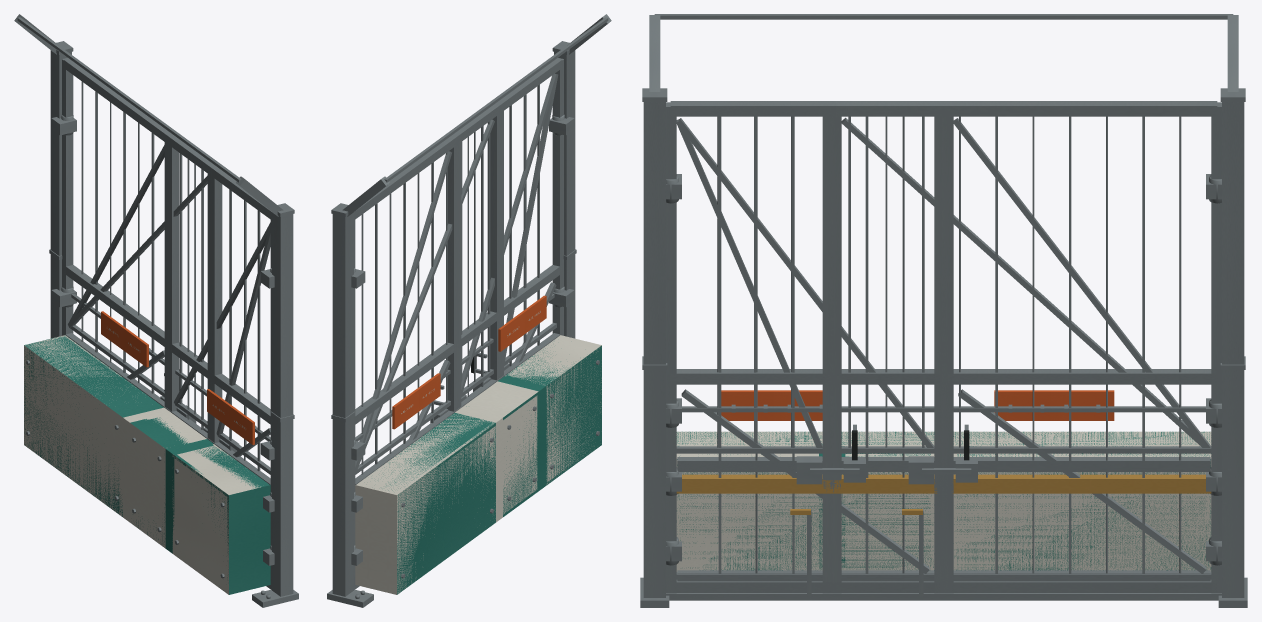
Rendered from aurel-recovery-gates.glb.
The picture shows the model from 3 angles, left to right: view 1: azimuth 30°, elevation 25°; view 2: azimuth 150°, elevation 25°; view 3: azimuth 270°, elevation 25°; orthographic projection. The views are drawn at different scales.
Visible parts, largest first — view 1: A05_MAINTENANCE_LOD0_LEFT_LEAF, A05_MAINTENANCE_LOD1_LEFT_LEAF, A05_MAINTENANCE_LOD0_RIGHT_LEAF, A05_RECOVERY_LOD0_RIGHT_LEAF, A05_MAINTENANCE_LOD0_FRAME, A05_RECOVERY_LOD1_RIGHT_LEAF, A05_MAINTENANCE_LOD1_FRAME, A05_RECOVERY_LOD1_LEFT_LEAF, A05_RECOVERY_LOD0_LEFT_LEAF, A05_MAINTENANCE_LOD1_RIGHT_LEAF, A05_ACCESS_LOD1_FRAME, A05_ACCESS_LOD0_LEFT_LEAF (+4 smaller); view 2: A05_MAINTENANCE_LOD0_LEFT_LEAF, A05_MAINTENANCE_LOD1_LEFT_LEAF, A05_RECOVERY_LOD1_LEFT_LEAF, A05_RECOVERY_LOD1_RIGHT_LEAF, A05_MAINTENANCE_LOD0_RIGHT_LEAF, A05_MAINTENANCE_LOD1_FRAME, A05_RECOVERY_LOD0_RIGHT_LEAF, A05_MAINTENANCE_LOD0_FRAME, A05_MAINTENANCE_LOD1_RIGHT_LEAF, A05_RECOVERY_LOD0_LEFT_LEAF, A05_ACCESS_LOD0_FRAME, A05_ACCESS_LOD1_FRAME (+4 smaller); view 3: A05_MAINTENANCE_LOD0_LEFT_LEAF, A05_MAINTENANCE_LOD0_RIGHT_LEAF, A05_MAINTENANCE_LOD1_LEFT_LEAF, A05_MAINTENANCE_LOD0_FRAME, A05_ACCESS_LOD1_LEFT_LEAF, A05_ACCESS_LOD1_RIGHT_LEAF, A05_MAINTENANCE_LOD1_FRAME, A05_RECOVERY_LOD0_RIGHT_LEAF, A05_ACCESS_LOD0_LEFT_LEAF, A05_MAINTENANCE_LOD1_RIGHT_LEAF, A05_RECOVERY_LOD0_LEFT_LEAF, A05_ACCESS_LOD0_RIGHT_LEAF (+4 smaller).
Part boxes in pixels (x1,y1,x2,y2): A05_MAINTENANCE_LOD0_LEFT_LEAF: (25,58,213,544); A05_MAINTENANCE_LOD1_LEFT_LEAF: (24,58,213,548); A05_MAINTENANCE_LOD0_RIGHT_LEAF: (174,169,274,590); A05_RECOVERY_LOD0_RIGHT_LEAF: (132,138,270,590); A05_MAINTENANCE_LOD0_FRAME: (17,14,293,594); A05_RECOVERY_LOD1_RIGHT_LEAF: (130,136,271,594); A05_MAINTENANCE_LOD1_FRAME: (14,14,294,596); A05_RECOVERY_LOD1_LEFT_LEAF: (24,66,169,516); A05_RECOVERY_LOD0_LEFT_LEAF: (25,62,171,512); A05_MAINTENANCE_LOD1_RIGHT_LEAF: (172,167,274,594); A05_ACCESS_LOD1_FRAME: (49,249,298,607); A05_ACCESS_LOD0_LEFT_LEAF: (51,265,179,409); A05_MAINTENANCE_LOD0_LEFT_LEAF: (351,105,537,591); A05_MAINTENANCE_LOD1_LEFT_LEAF: (351,105,538,594); A05_RECOVERY_LOD1_LEFT_LEAF: (354,137,495,594); A05_RECOVERY_LOD1_RIGHT_LEAF: (456,58,601,516); A05_MAINTENANCE_LOD0_RIGHT_LEAF: (497,58,599,481); A05_MAINTENANCE_LOD1_FRAME: (331,14,611,596); A05_RECOVERY_LOD0_RIGHT_LEAF: (457,62,600,500); A05_MAINTENANCE_LOD0_FRAME: (332,14,609,589); A05_MAINTENANCE_LOD1_RIGHT_LEAF: (497,58,601,485); A05_RECOVERY_LOD0_LEFT_LEAF: (354,144,493,513); A05_ACCESS_LOD0_FRAME: (328,250,576,606); A05_ACCESS_LOD1_FRAME: (327,249,576,607); A05_MAINTENANCE_LOD0_LEFT_LEAF: (810,101,1221,588); A05_MAINTENANCE_LOD0_RIGHT_LEAF: (666,101,833,596); A05_MAINTENANCE_LOD1_LEFT_LEAF: (810,101,1221,593); A05_MAINTENANCE_LOD0_FRAME: (643,14,1244,597); A05_ACCESS_LOD1_LEFT_LEAF: (922,369,1221,593); A05_ACCESS_LOD1_RIGHT_LEAF: (666,369,946,596); A05_MAINTENANCE_LOD1_FRAME: (642,14,1245,597); A05_RECOVERY_LOD0_RIGHT_LEAF: (673,102,945,581); A05_ACCESS_LOD0_LEFT_LEAF: (922,369,1221,592); A05_MAINTENANCE_LOD1_RIGHT_LEAF: (666,101,834,596); A05_RECOVERY_LOD0_LEFT_LEAF: (942,106,1215,581); A05_ACCESS_LOD0_RIGHT_LEAF: (666,369,945,596).
Bounding box in the file's own units: 0.6015 × 3.87 × 3.8.
1 material, 1 textured.
